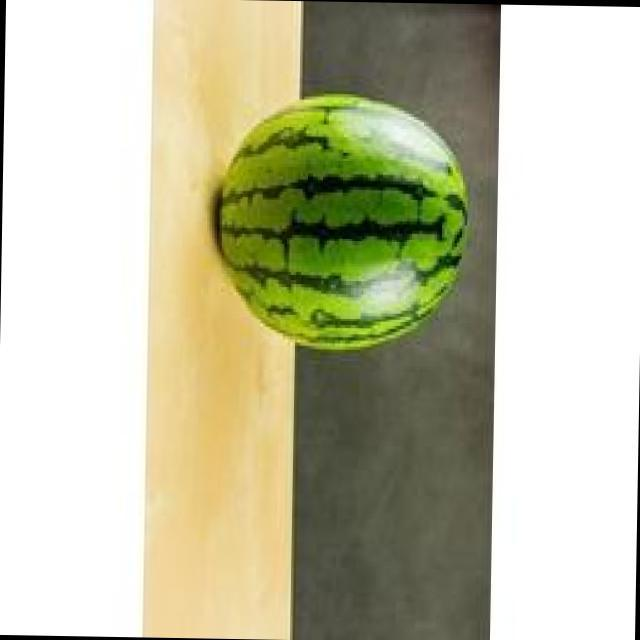watermelon: (206, 90, 472, 351)
